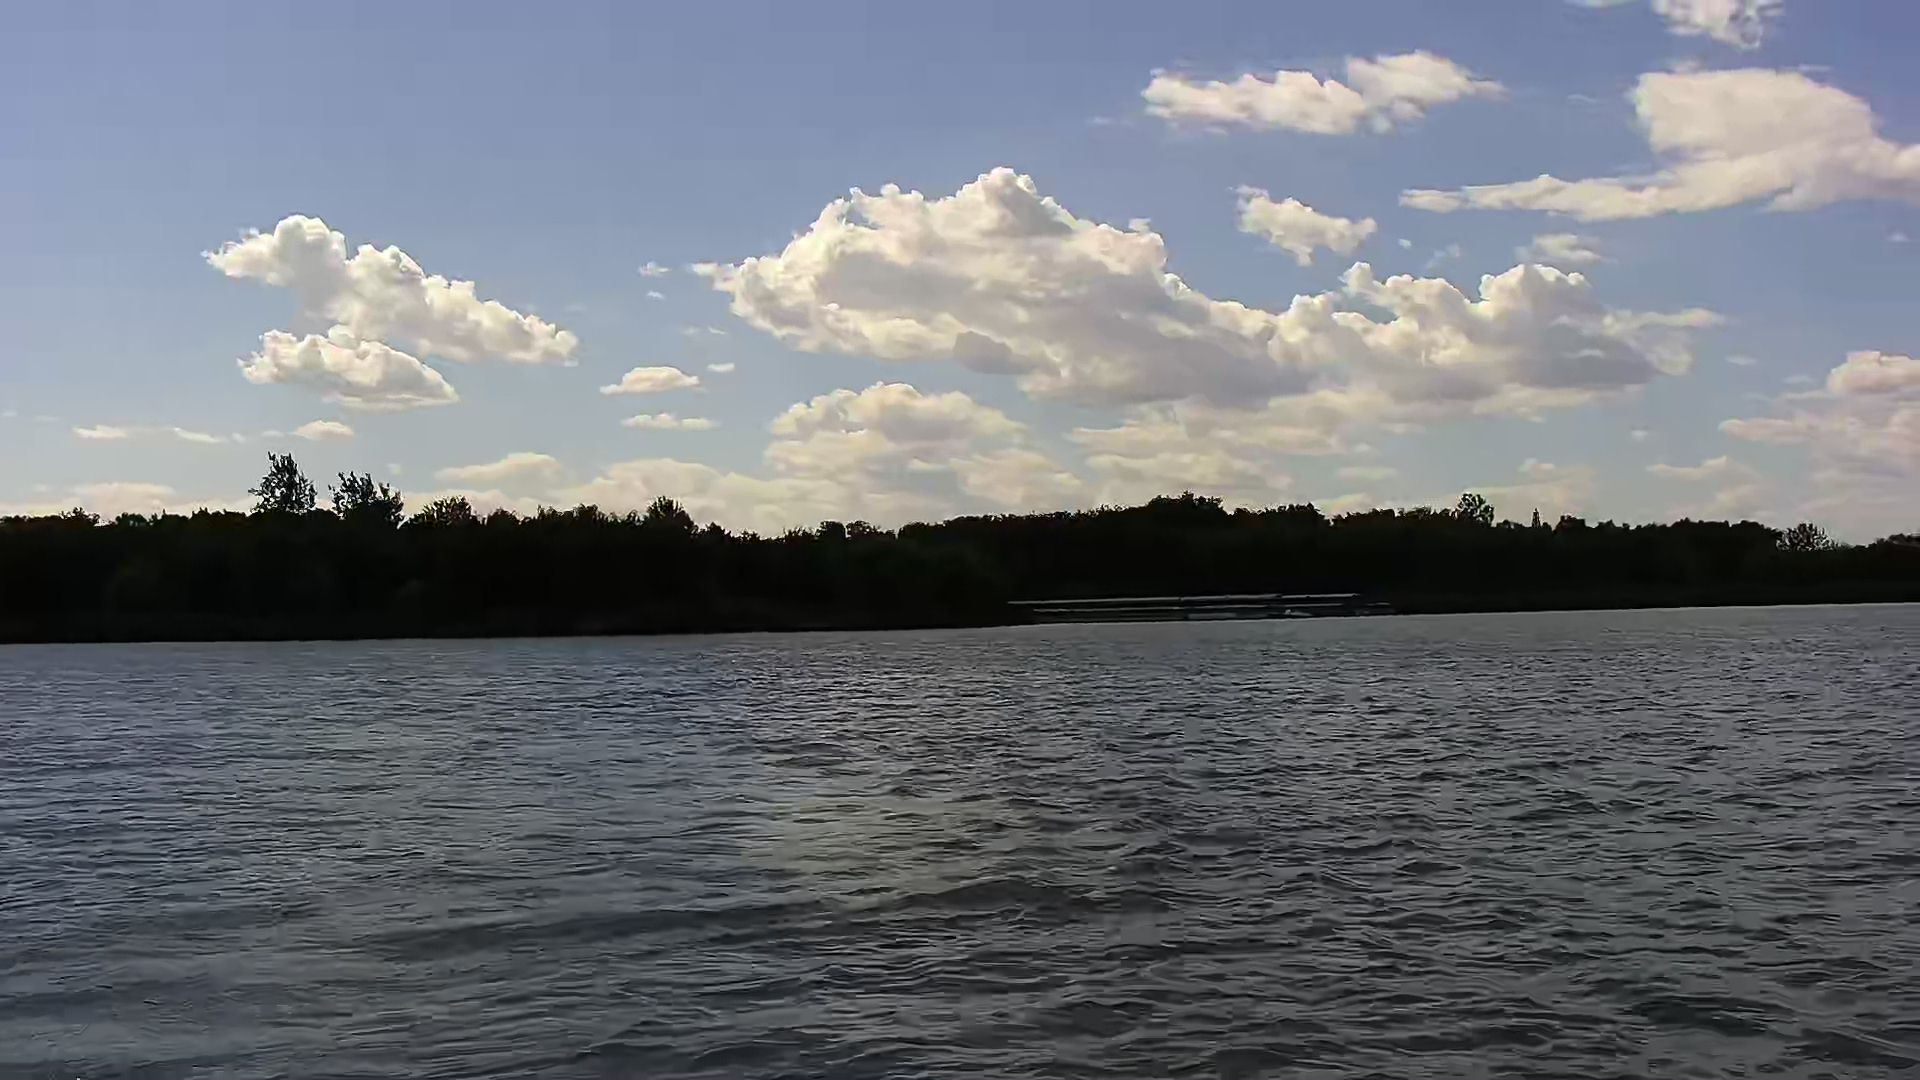harbor: (1025, 595, 1362, 616)
